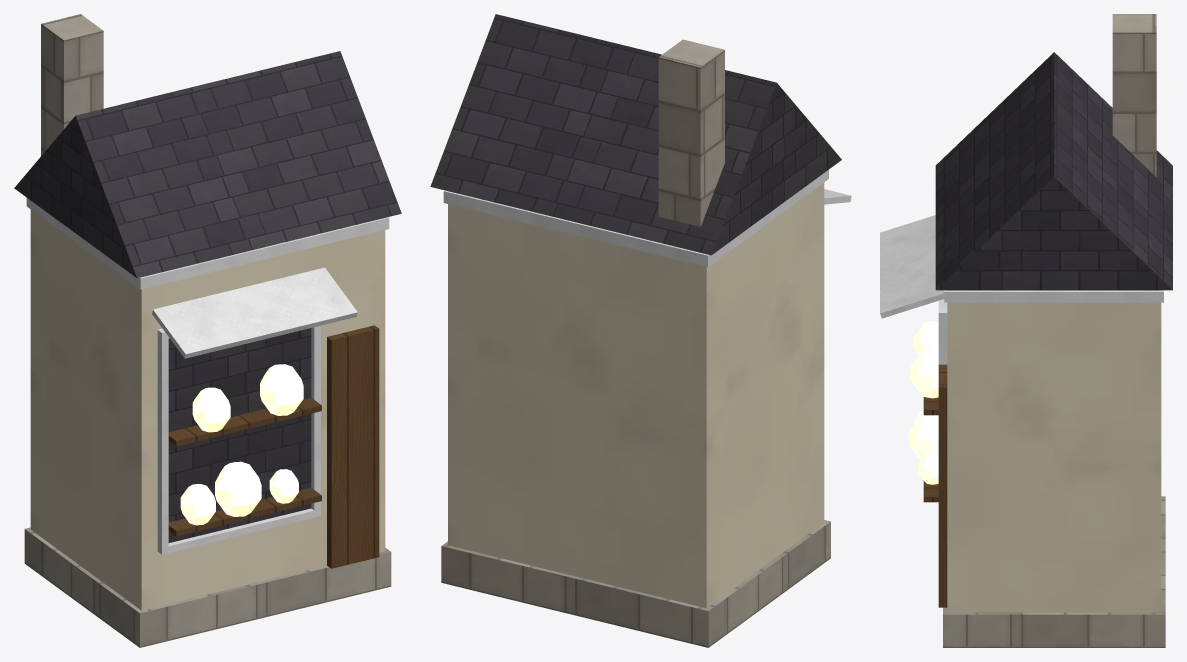
The model's file is protocol.zora.glb.
3 views of the same model, side by side, from view 1: azimuth 30°, elevation 25°; view 2: azimuth 150°, elevation 25°; view 3: azimuth 270°, elevation 25° (orthographic). The views are drawn at different scales.
Parts seen in each view (by area): view 1: building.protocol.zora; view 2: building.protocol.zora; view 3: building.protocol.zora.
Boxes of the visible parts, box(x1,y1,x2,y2) form: building.protocol.zora: box(14, 14, 401, 647); building.protocol.zora: box(430, 14, 851, 647); building.protocol.zora: box(880, 14, 1172, 647).
Bounding box in the file's own units: 2 × 3.9 × 1.99.
Materials: 7 (6 with a texture image).
